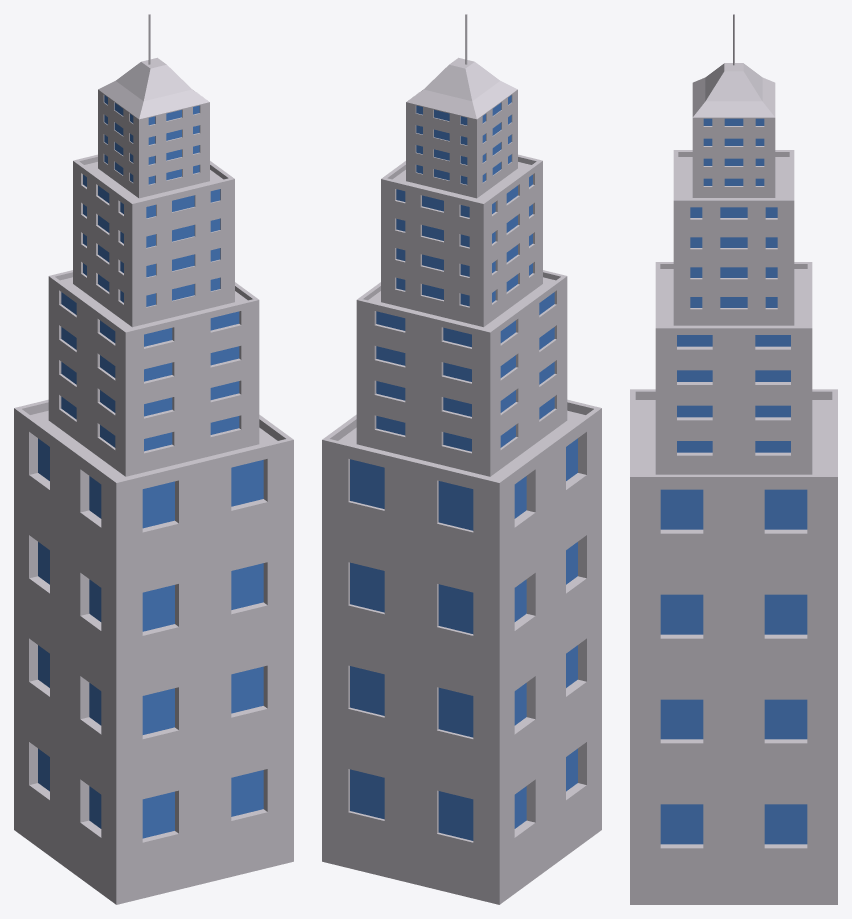
The model's file is building_01.fbx.
3 views of the same model, side by side, from view 1: azimuth 30°, elevation 25°; view 2: azimuth 150°, elevation 25°; view 3: azimuth 270°, elevation 25° (orthographic).
Visible parts, largest first — view 1: Building_01; view 2: Building_01; view 3: Building_01.
Boxes of the visible parts, x1=… form: Building_01: x1=14, y1=14, x2=293, y2=904; Building_01: x1=322, y1=14, x2=601, y2=904; Building_01: x1=630, y1=14, x2=837, y2=904.
Bounding box in the file's own units: 200 × 896 × 200.
